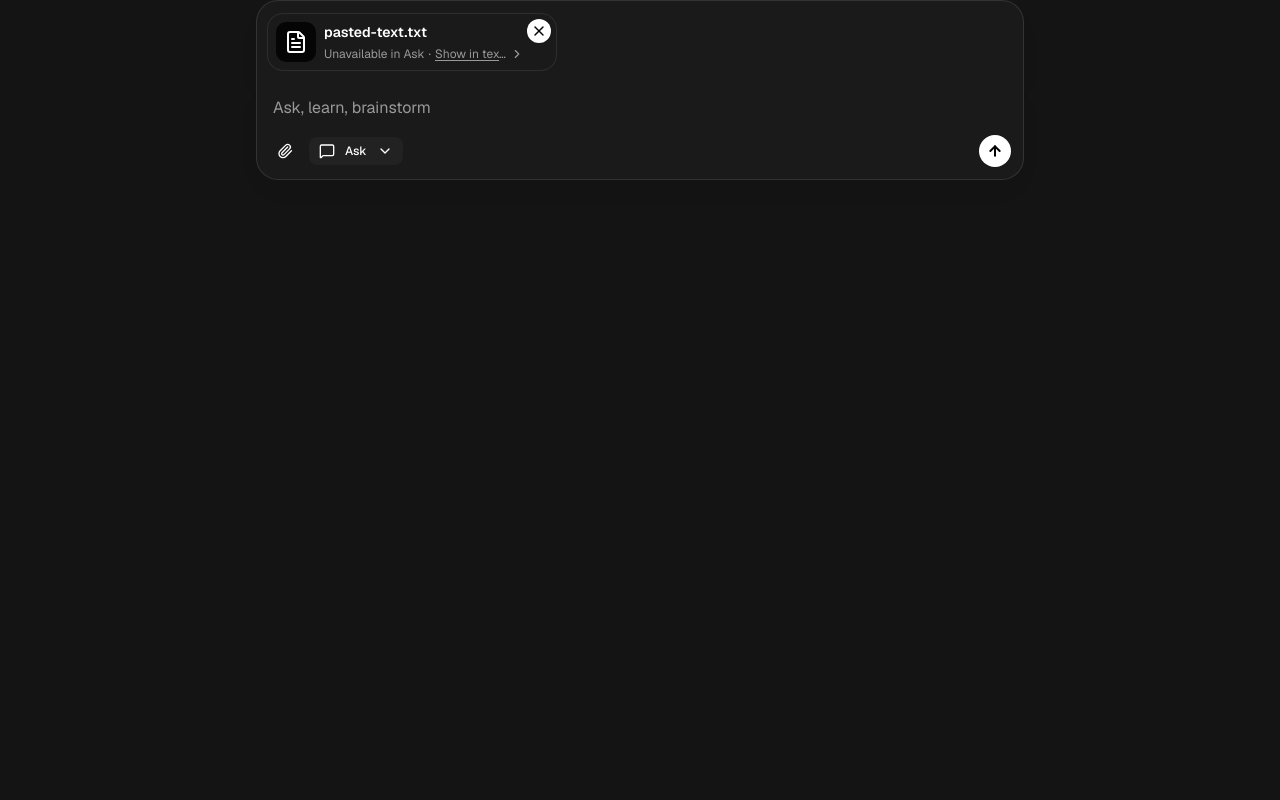
Scenario: ChatInput - Integration Tests › Submit Behavior Integration › restores pasted-text draft attachments with editable content
The width and height of the screenshot is (1280, 800).
Check: the text "pasted-text.txt" is shown, box [324, 23, 427, 41]
Click the button with aria-label "Open pasted-text.txt". click: [412, 42]
box: [276, 22, 548, 62]
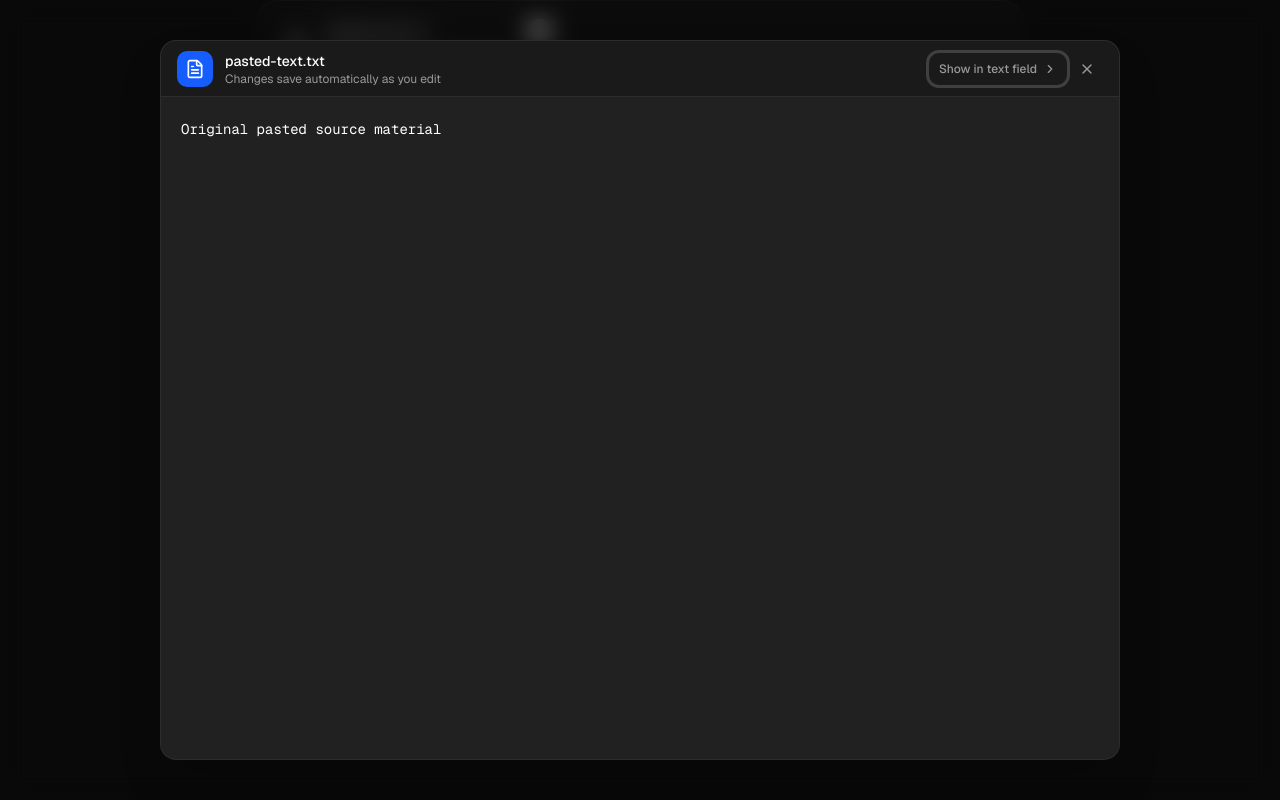
Check: the text box named "Pasted text content" holds "Original pasted source material"
Check: the text "Changes save automatically as you edit" is shown, box [225, 70, 441, 86]
Check: the text box named "Pasted text content" is enabled
